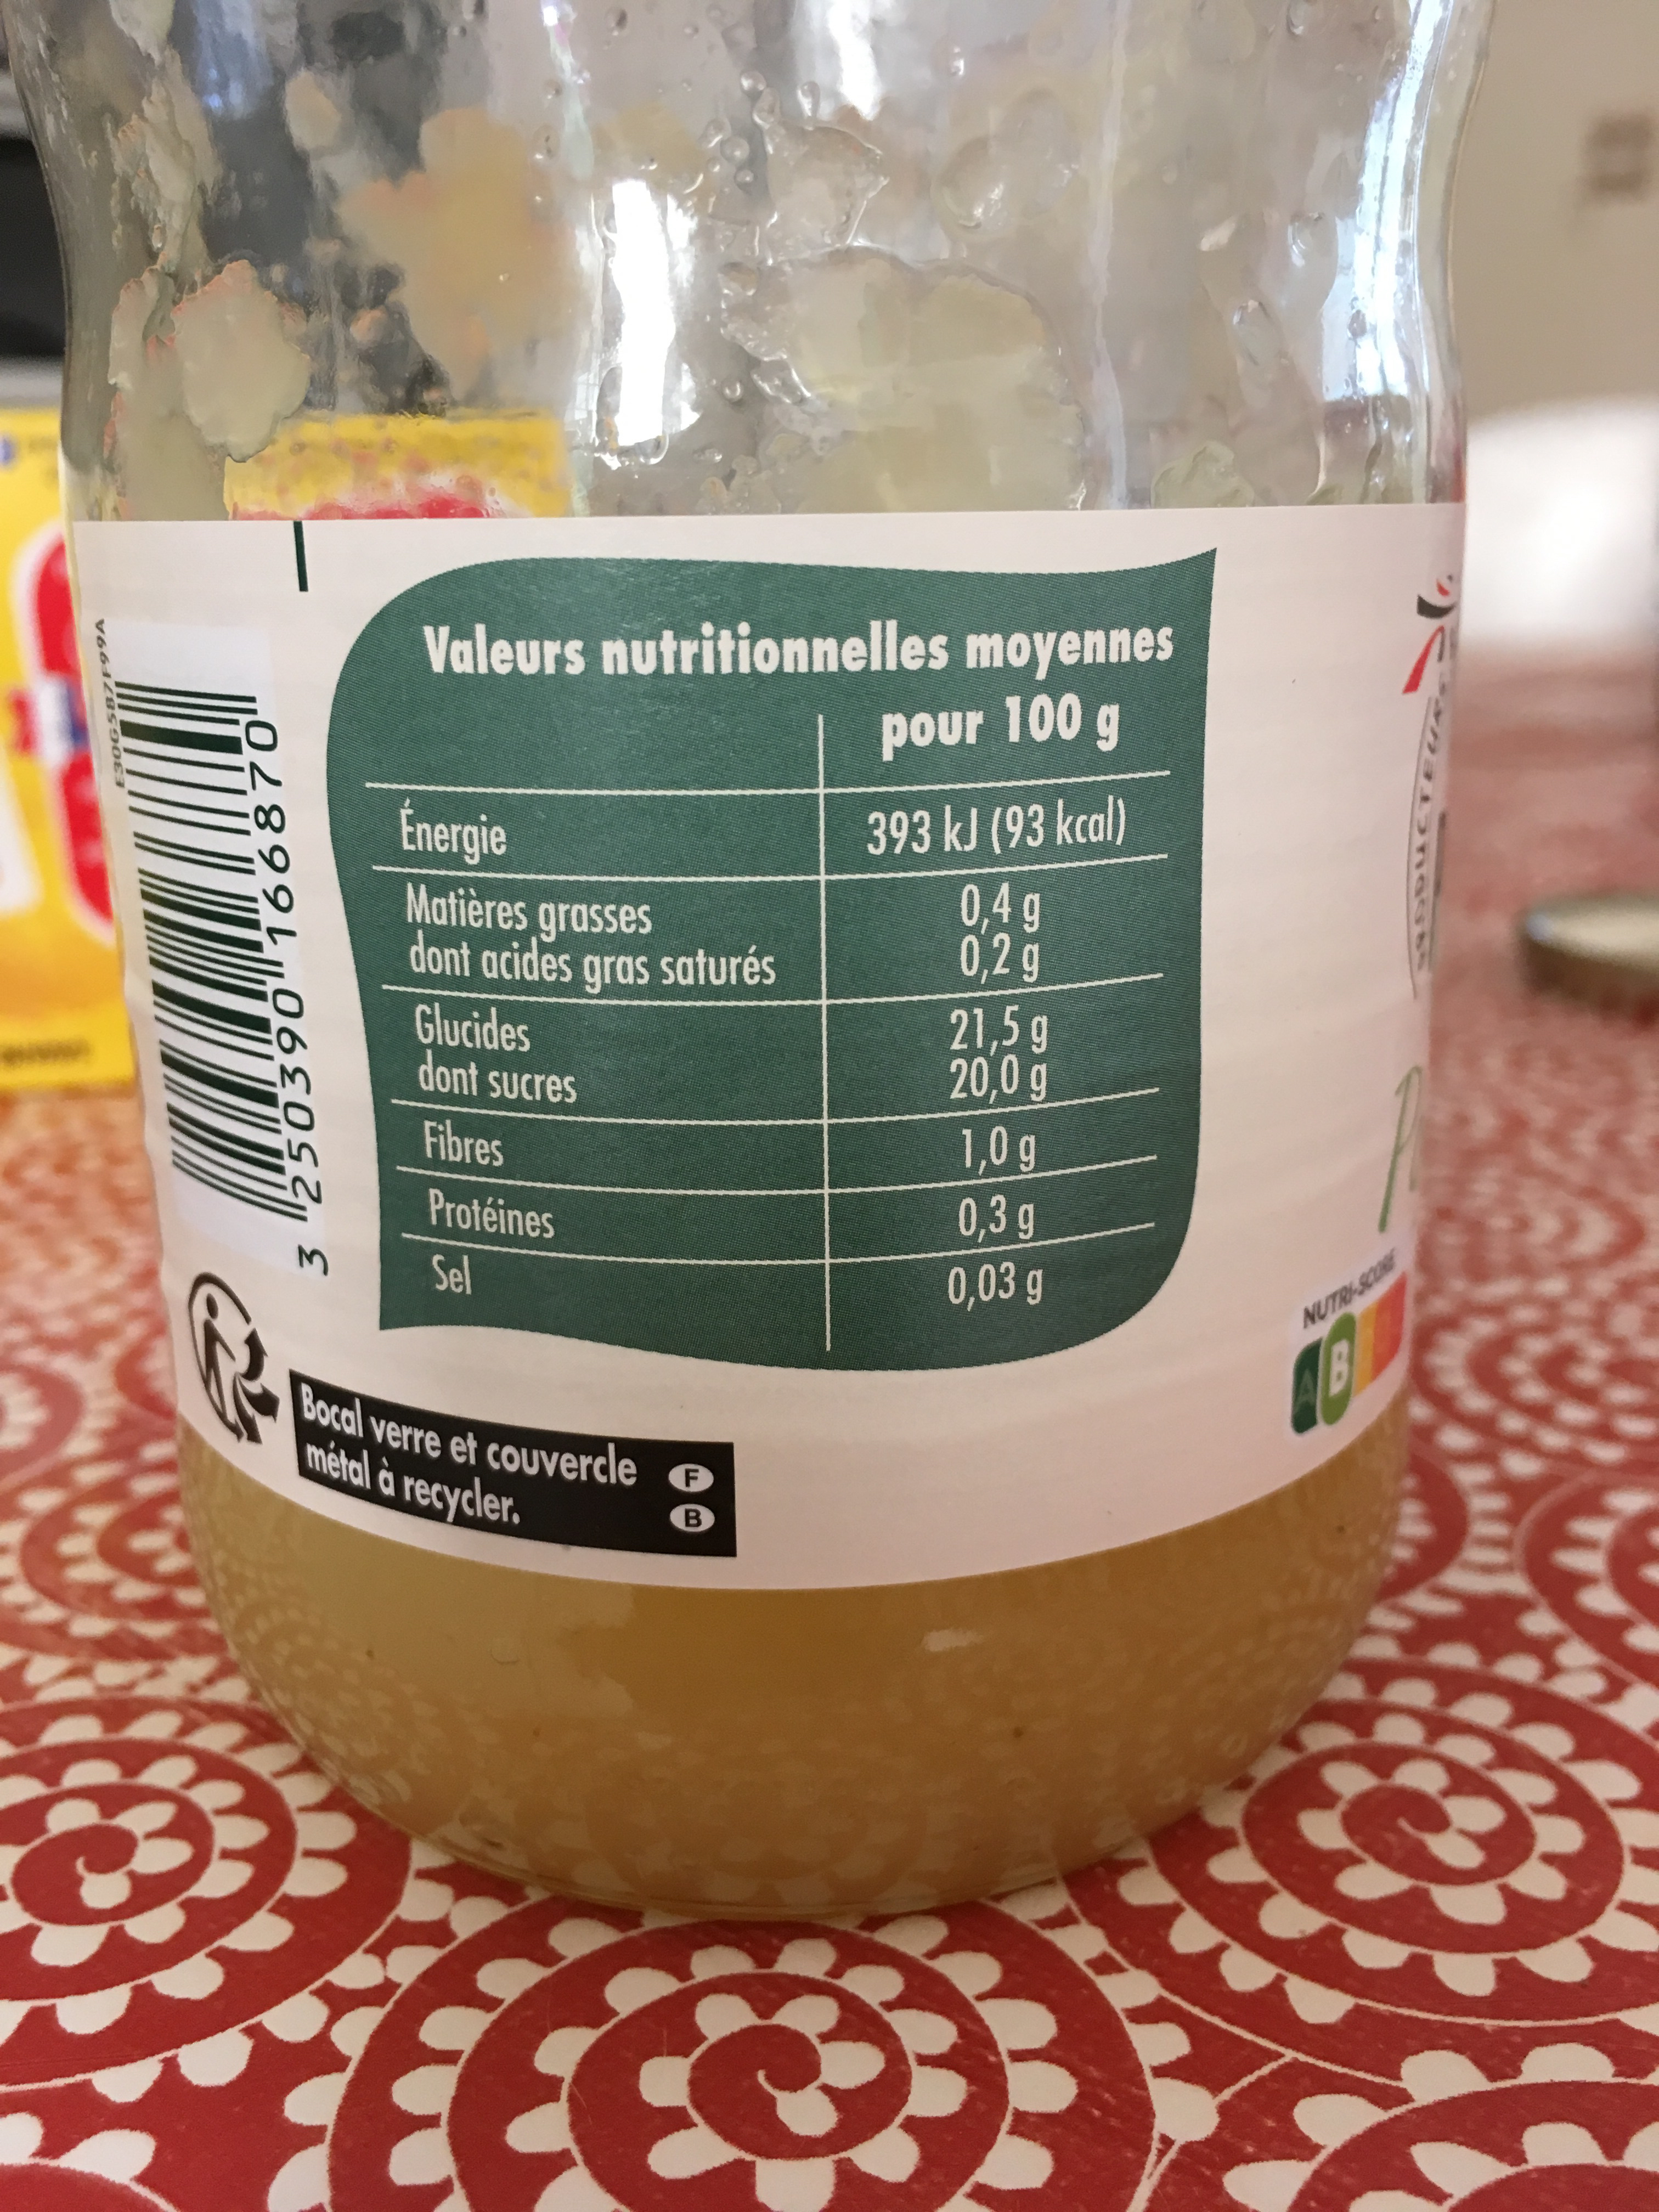column: (390, 796, 779, 1294), (861, 695, 1147, 1306)
table: (361, 620, 1180, 1334)
